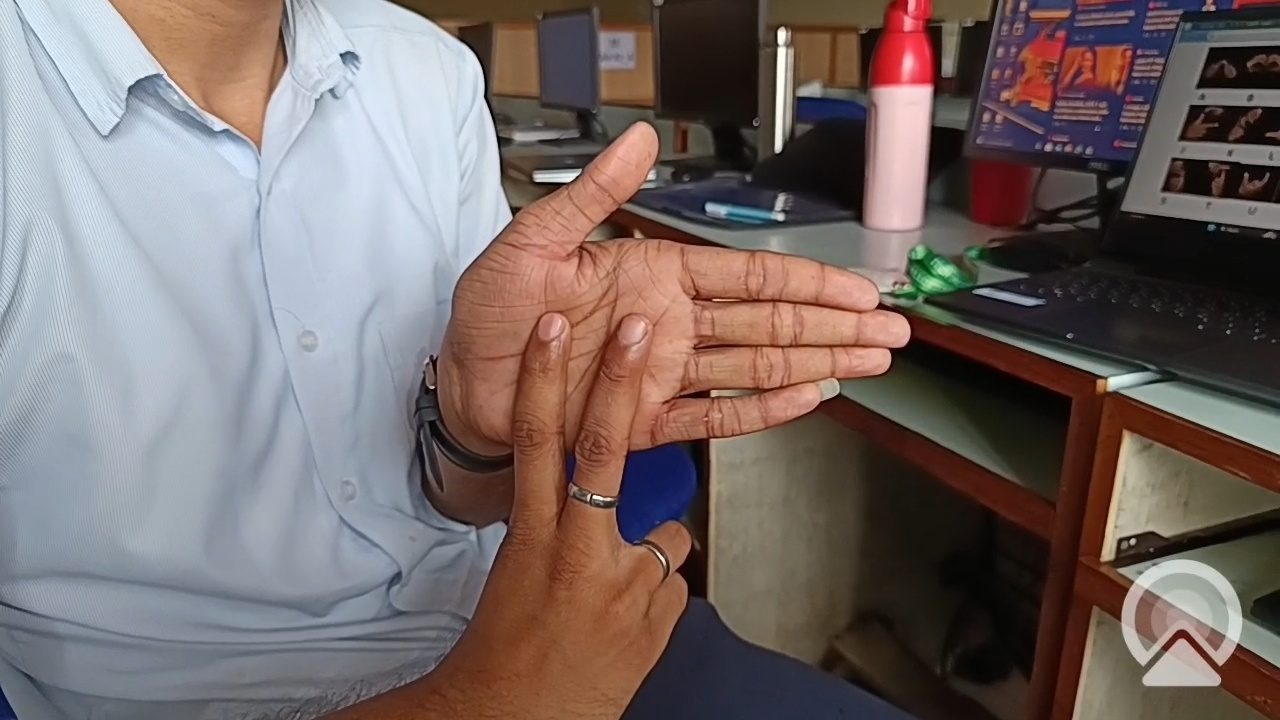N: (409, 122, 911, 720)
